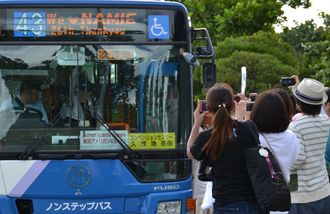destination: (5, 7, 147, 40)
